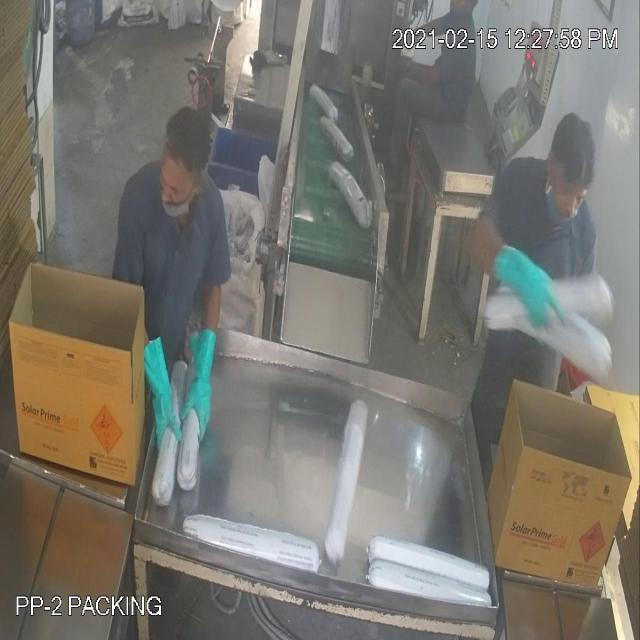gloves: (483, 214, 569, 348), (177, 310, 225, 454), (136, 317, 184, 458)
